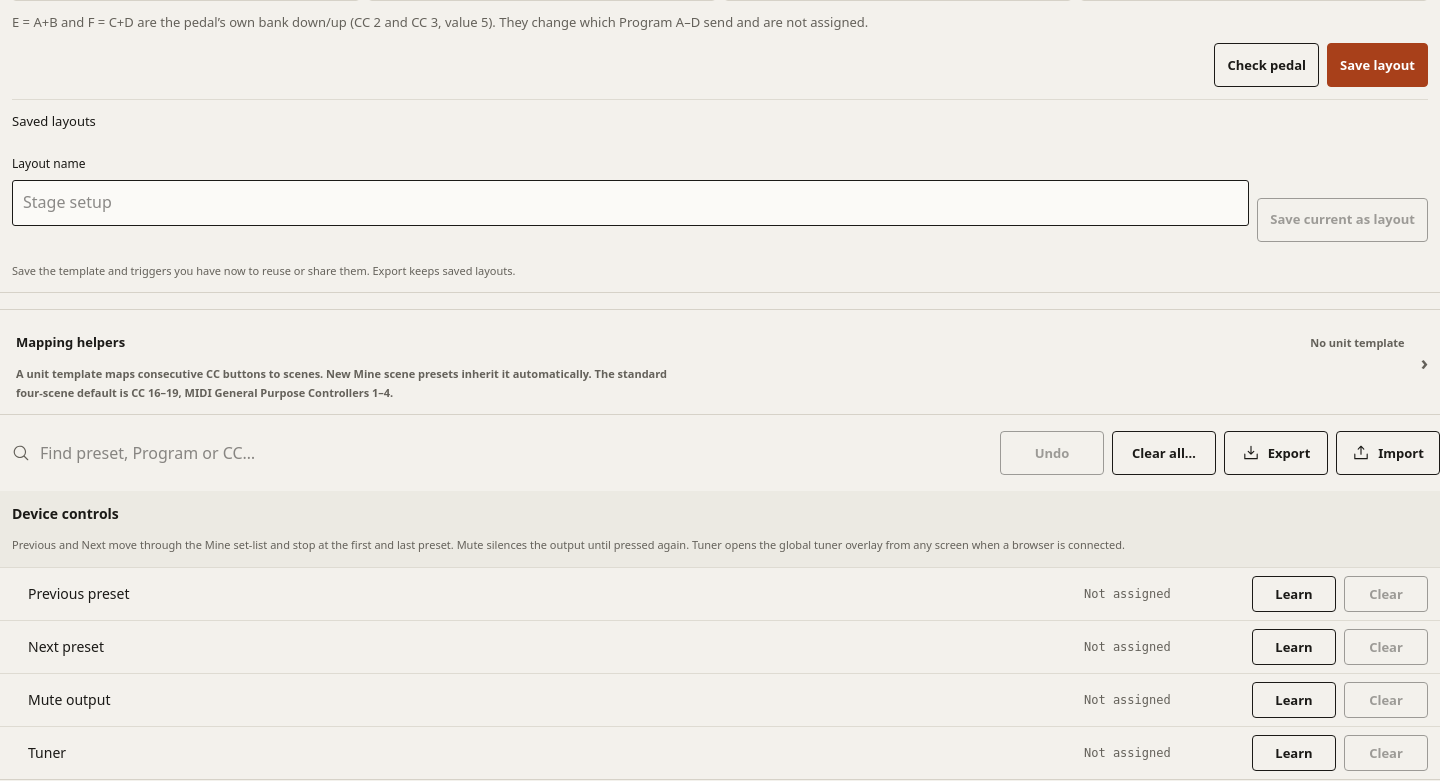
Test: undoes and clears with a count, through revision-checked saves
The image size is (1440, 781).
(page scrolled)
Expected: the button "Undo" is disabled, [1000,431,1104,475]
Click the button "Clear all…" at (1164, 453), box [1112,431,1216,475]
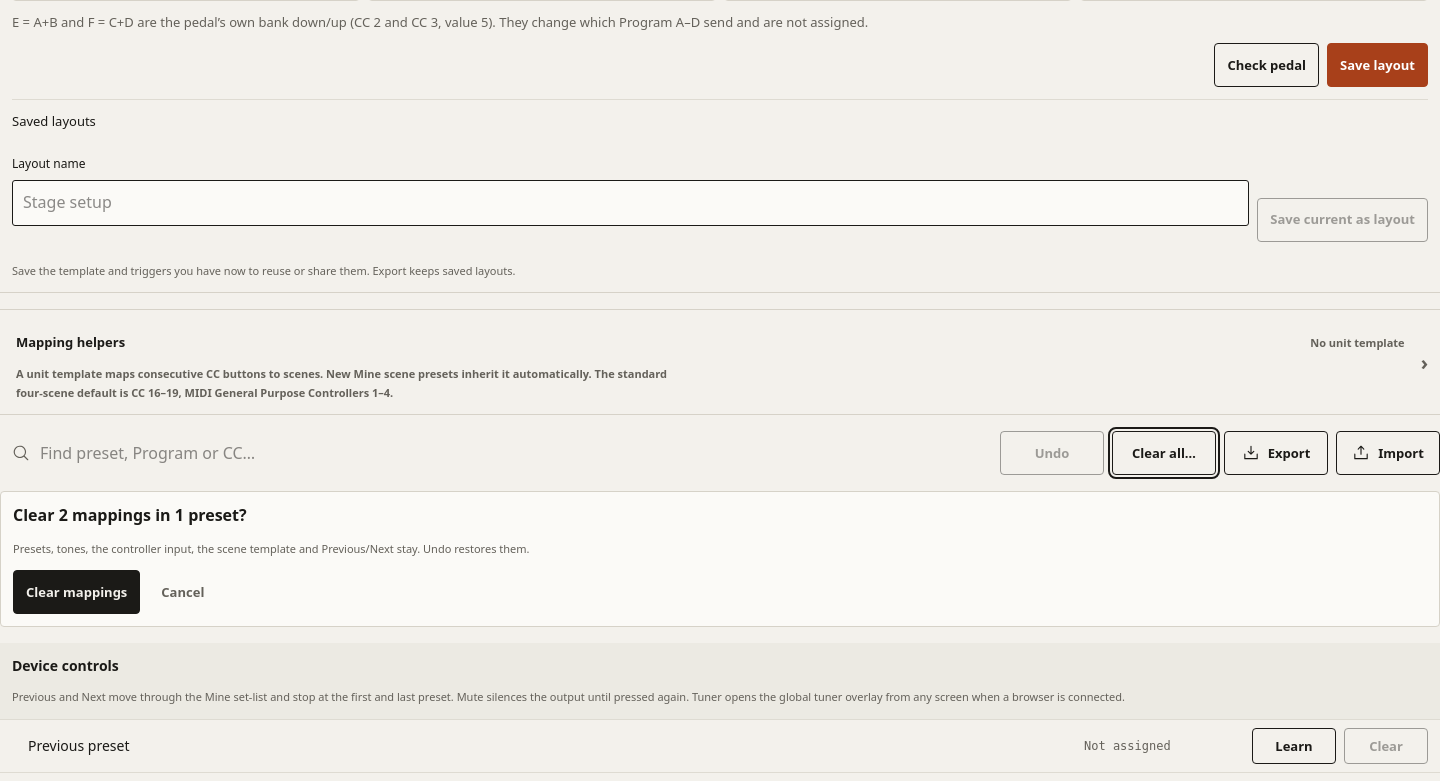
Now the element named "Confirm clearing all mappings" shows "Clear 2 mappings in 1 preset?", box [0,491,1439,627]
Click the button "Clear mappings" at (77, 592), box [13,570,140,614]
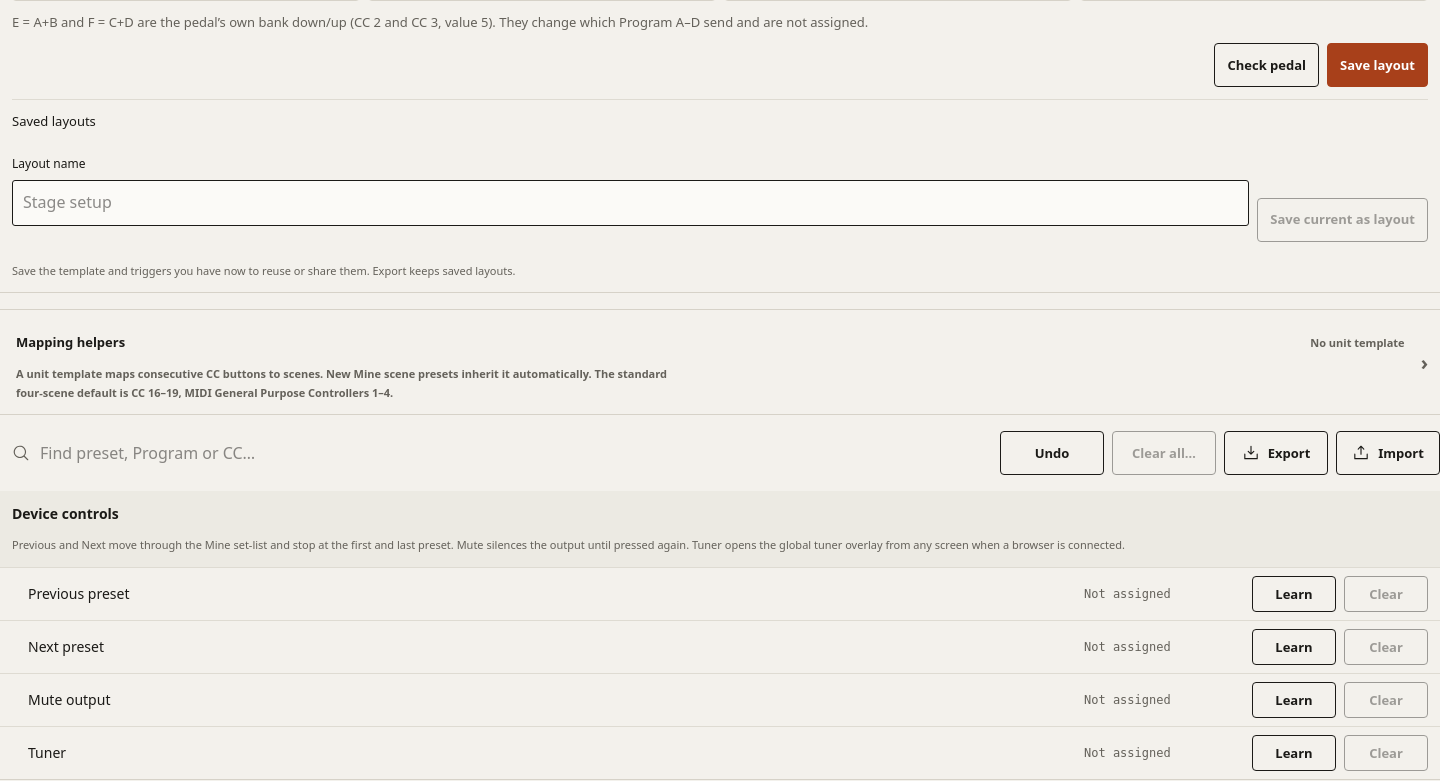
Click the button "Undo" at (1052, 453), box [1000,431,1104,475]
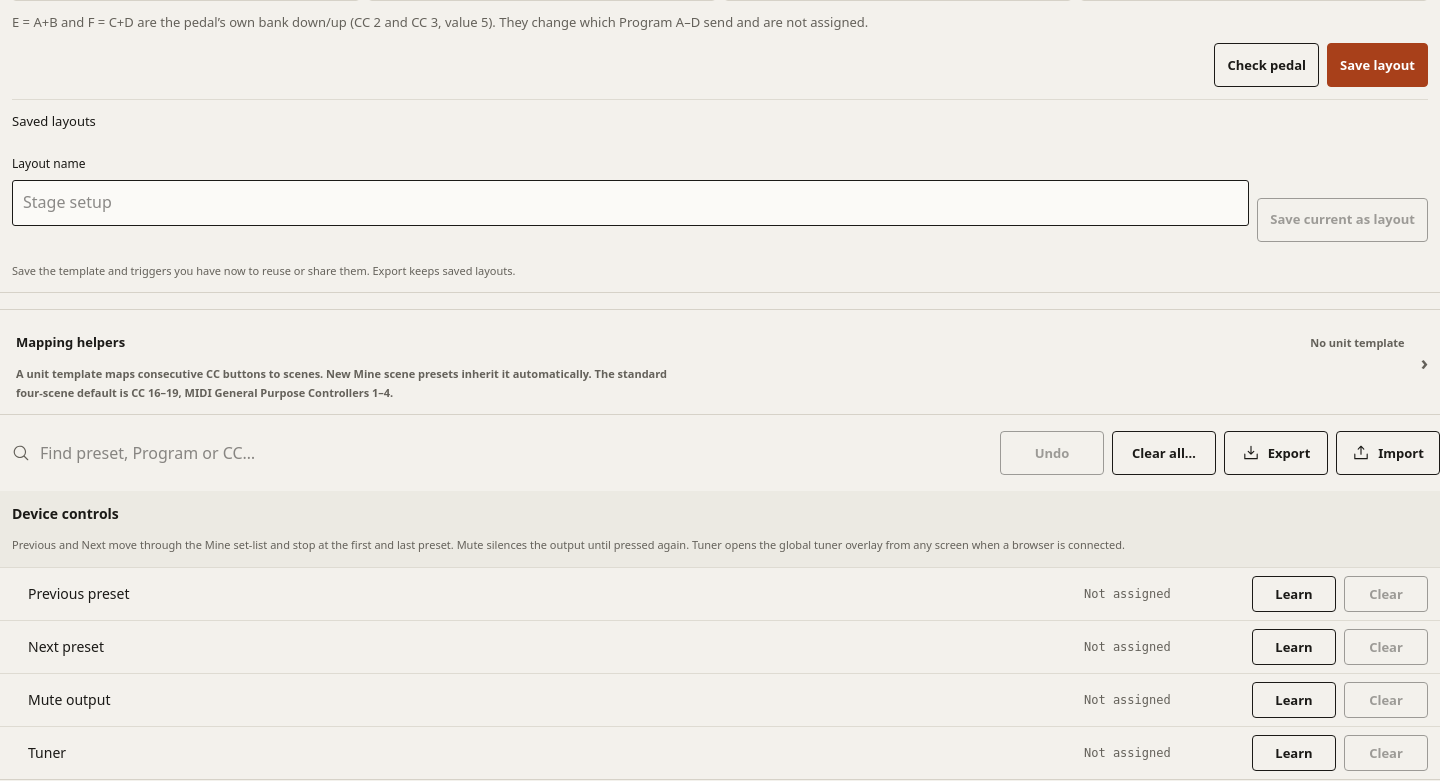
Now the button "Undo" is disabled, box [1000,431,1104,475]
